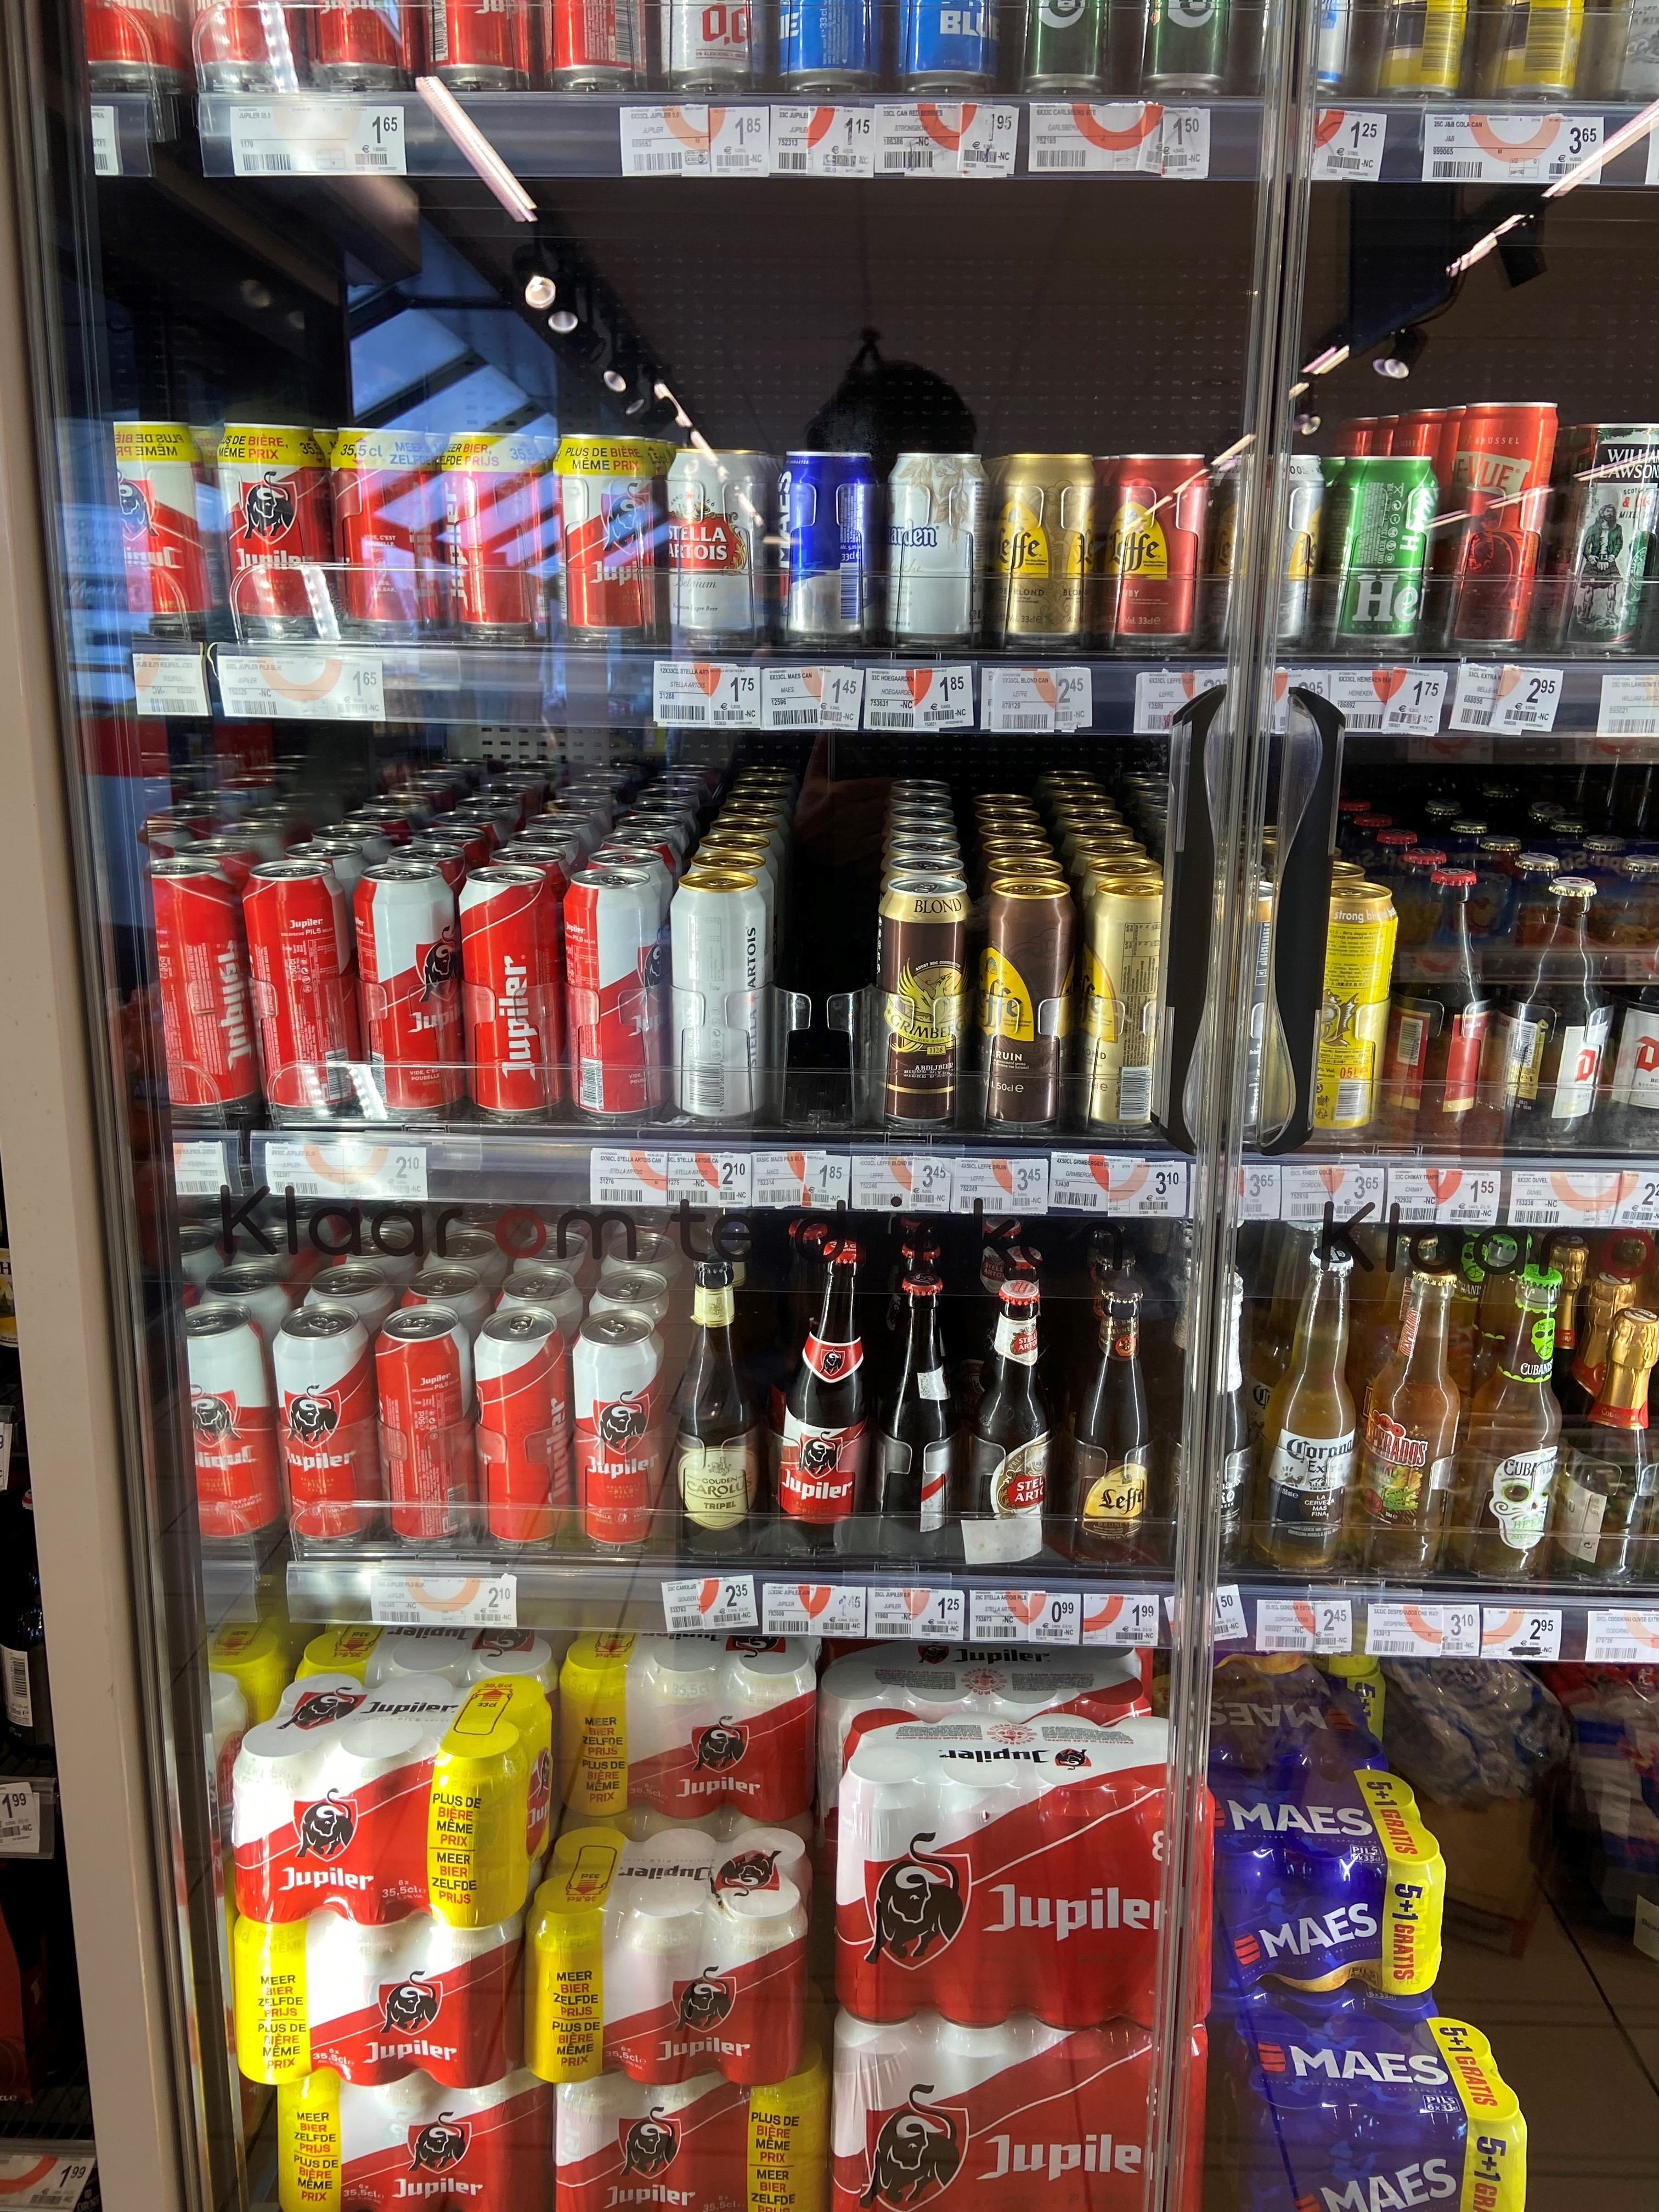BelleVue: (1438, 401, 1563, 648)
Carolus: (667, 1249, 765, 1561)
Chimay: (1382, 864, 1497, 1132)
CodorniuBrut: (1567, 1310, 1659, 1576)
Corona: (1260, 1249, 1361, 1573)
CubanistoMojito: (1453, 1263, 1565, 1585)
DesperadosFles: (1359, 1261, 1462, 1580)
Duvel: (1478, 878, 1614, 1153)
Faro: (1166, 1271, 1255, 1578)
GordonGold50cl: (1291, 881, 1399, 1148)
GordonPlatinum: (1187, 878, 1293, 1143)
Grimbergen: (875, 880, 976, 1127)
Heineken33cl: (1328, 456, 1439, 650)
HoegaerdenOriginal: (884, 451, 992, 650)
Jupiler0,0%Fles: (875, 1268, 960, 1555)
JupilerBlik35,5cl: (209, 420, 331, 643), (552, 434, 671, 644), (331, 427, 443, 644), (439, 430, 549, 636)
JupilerBlik50cl: (350, 859, 458, 1118), (247, 860, 352, 1122), (272, 1303, 382, 1548), (460, 866, 563, 1120), (563, 866, 660, 1122), (572, 1310, 671, 1550), (472, 1308, 573, 1543), (376, 1305, 474, 1545)
JupilerBlik6x35,5cl: (232, 1677, 554, 1918), (535, 1829, 817, 2081), (232, 1869, 537, 2083), (552, 1987, 830, 2212), (559, 1611, 823, 1822), (274, 2033, 554, 2212)
JupilerBlik8x50cl: (836, 1714, 1216, 2024), (830, 2010, 1209, 2212)
JupilerFles33cl: (774, 1237, 877, 1559)
Leffe0,0%Blond: (1213, 451, 1326, 657)
LeffeBlond33cl: (992, 453, 1103, 651)
LeffeBlond50cl: (1082, 880, 1185, 1129)
LeffeBruinBlik: (979, 880, 1082, 1129)
LeffeBruinFles: (1065, 1277, 1155, 1568)
LeffeRuby33cl: (1107, 453, 1209, 646)
Maes33cl: (777, 451, 885, 650)
Maes6x33cl: (1180, 1768, 1445, 1996), (1222, 2017, 1528, 2212)
StellaBlik33cl: (662, 448, 772, 650)
StellaBlik50cl: (671, 873, 770, 1123)
StellaFles: (964, 1280, 1056, 1562)
WilliamLawson: (1553, 418, 1659, 653)
